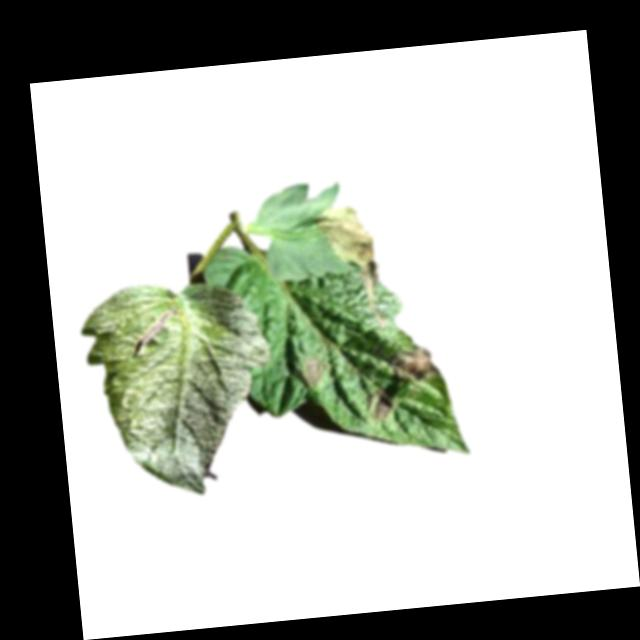Late_blight: (314, 202, 374, 268), (357, 261, 387, 328), (389, 345, 437, 384), (369, 393, 394, 425), (303, 357, 328, 389)
